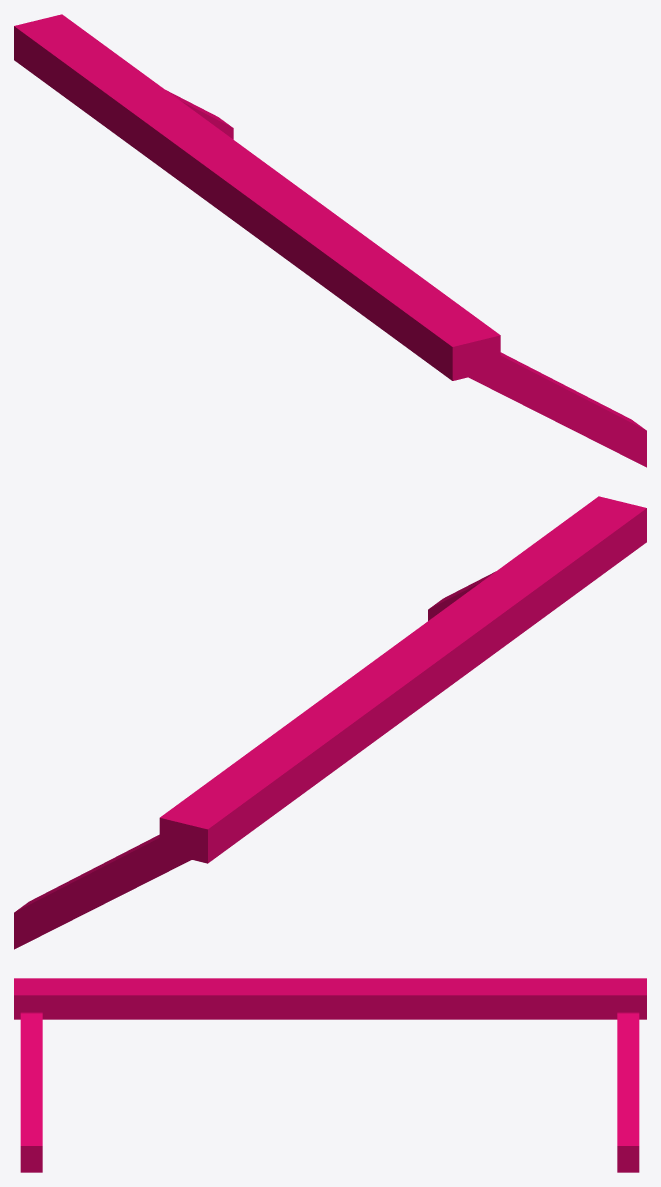
Rendered from Bastion_Base_01.fbx.
The picture shows the model from 3 angles, top to bottom: view 1: azimuth 30°, elevation 25°; view 2: azimuth 150°, elevation 25°; view 3: azimuth 270°, elevation 25°; orthographic projection. The views are drawn at different scales.
Parts seen in each view (by area): view 1: Bastion_Base_01; view 2: Bastion_Base_01; view 3: Bastion_Base_01.
Part boxes in pixels (x1,y1,x2,y2): Bastion_Base_01: (14, 14, 646, 467); Bastion_Base_01: (14, 496, 646, 949); Bastion_Base_01: (14, 978, 646, 1172).
Bounding box in the file's own units: 78.5 × 65.05 × 300.
